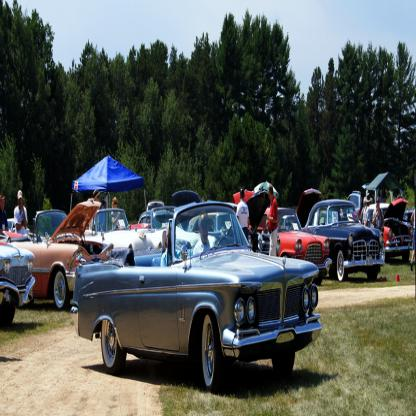Car: (0, 188, 415, 335)
